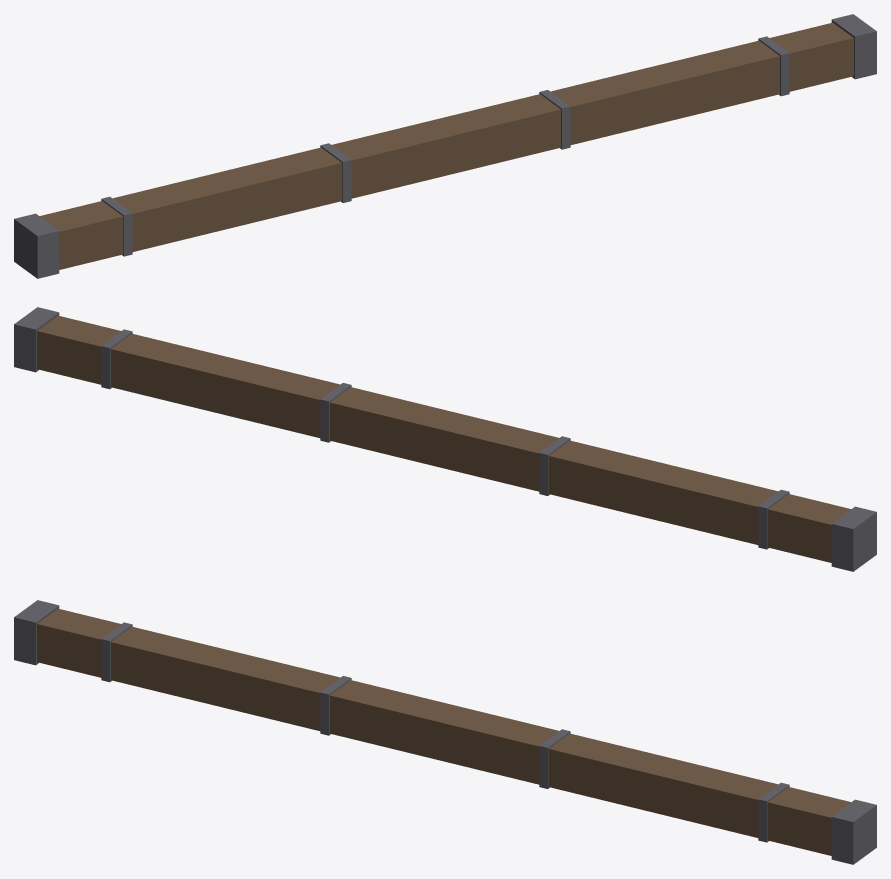
Rendered from RafterBeam.fbx.
3 views of the same model, one above another, from view 1: azimuth 30°, elevation 25°; view 2: azimuth 150°, elevation 25°; view 3: azimuth 330°, elevation 25° (orthographic).
Parts seen in each view (by area): view 1: RafterBeam; view 2: RafterBeam; view 3: RafterBeam.
Boxes of the visible parts, <box> form: RafterBeam: <box>14,14,876,278</box>; RafterBeam: <box>14,307,876,571</box>; RafterBeam: <box>14,600,876,864</box>.
Size of the model in its own units: 11.5 by 0.56 by 0.56.
